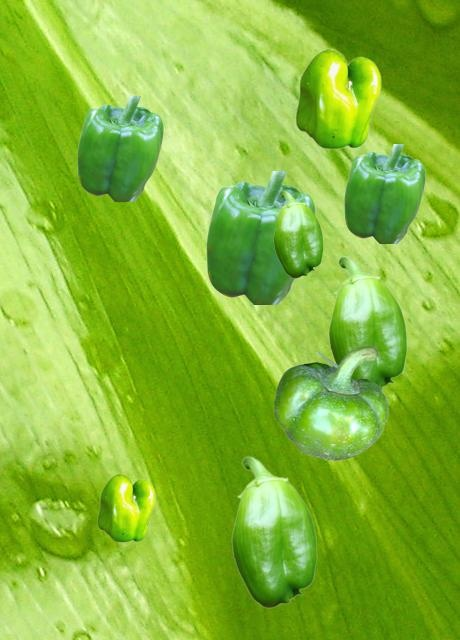bell_pepper: (206, 171, 314, 303), (274, 345, 387, 459), (231, 456, 316, 607), (328, 256, 406, 389), (77, 96, 162, 200), (295, 48, 380, 148), (344, 144, 424, 242), (273, 190, 322, 277), (97, 473, 154, 541)
